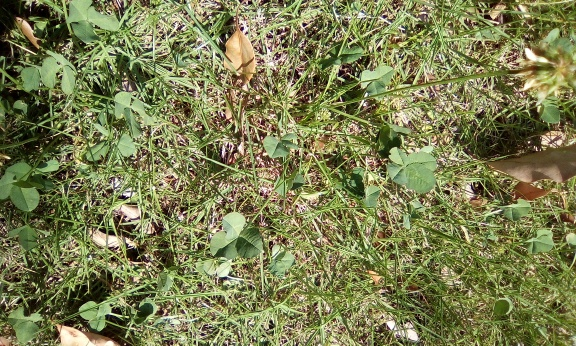4leaf: (386, 147, 438, 194)
